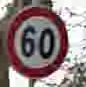limite 60: (3, 5, 68, 78)
